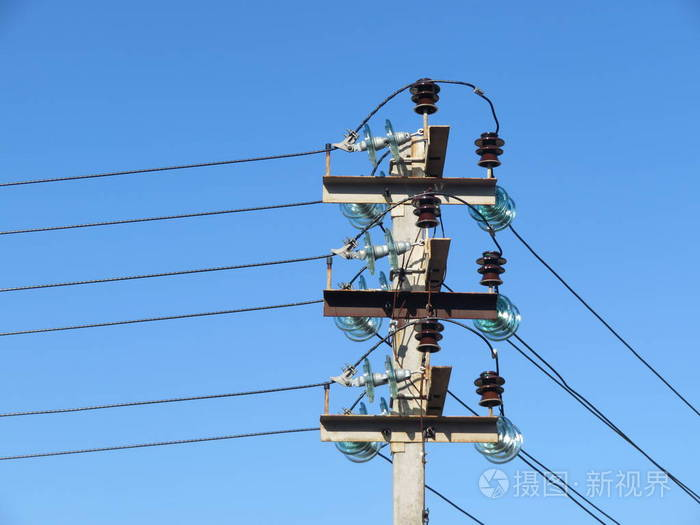insulator: (474, 416, 524, 467), (477, 292, 525, 344), (358, 116, 402, 167), (359, 356, 406, 402), (470, 188, 516, 233), (362, 227, 401, 278), (334, 436, 387, 464), (339, 202, 393, 228), (333, 313, 383, 339), (472, 372, 506, 407), (410, 78, 443, 112), (410, 319, 443, 351), (413, 195, 444, 229), (475, 134, 506, 168), (475, 255, 507, 286)
